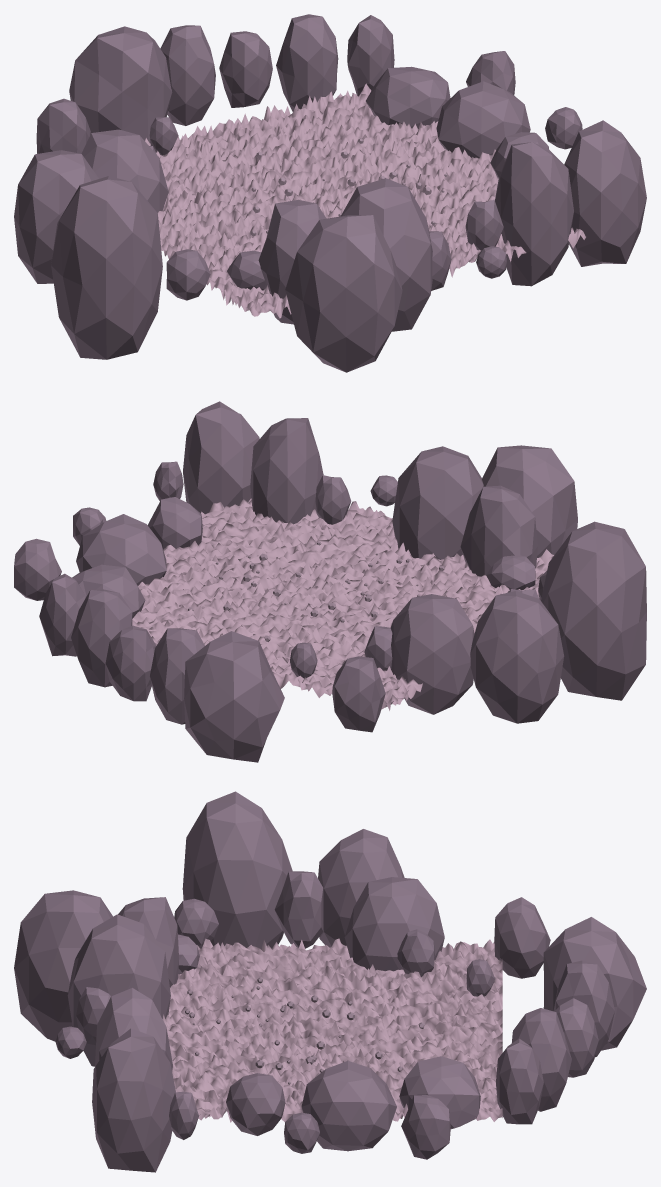
The model's file is sakura_foliage.gltf.
3 views of the same model, one above another, from view 1: azimuth 30°, elevation 25°; view 2: azimuth 150°, elevation 25°; view 3: azimuth 270°, elevation 25° (orthographic). The views are drawn at different scales.
Bounding box in the file's own units: 377 × 113 × 378.
